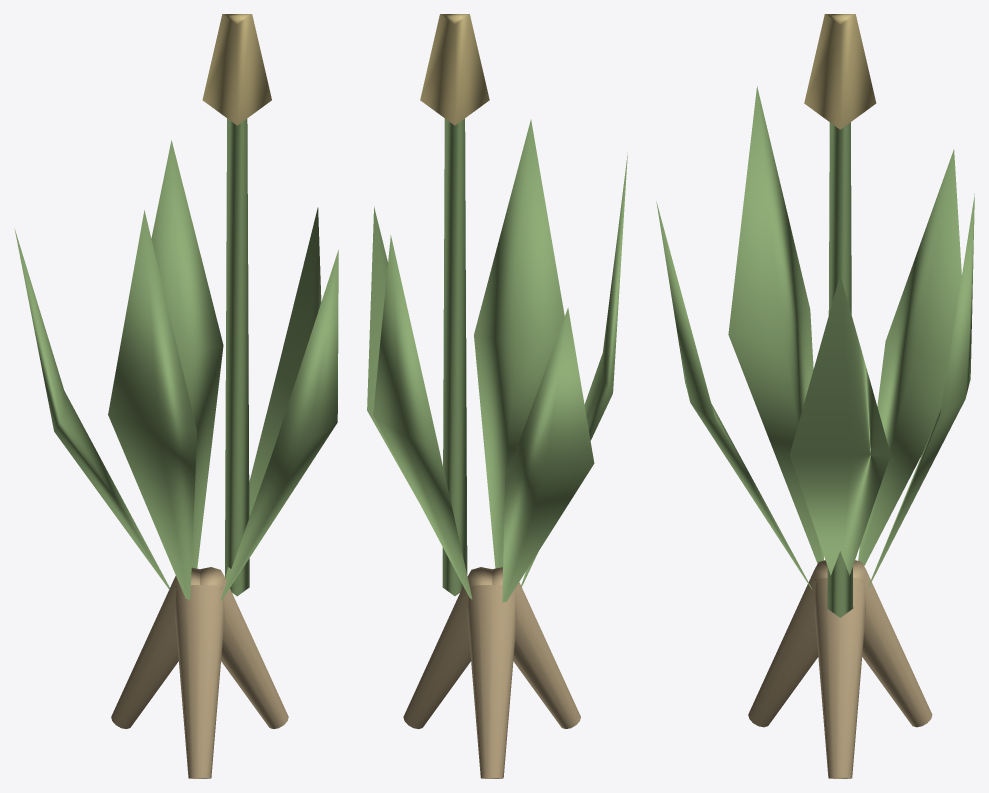
Rendered from weed_rooted.glb.
The picture shows the model from 3 angles, left to right: view 1: azimuth 30°, elevation 25°; view 2: azimuth 150°, elevation 25°; view 3: azimuth 270°, elevation 25°; orthographic projection. The views are drawn at different scales.
Bounding box in the file's own units: 0.2002 × 0.5518 × 0.214.
